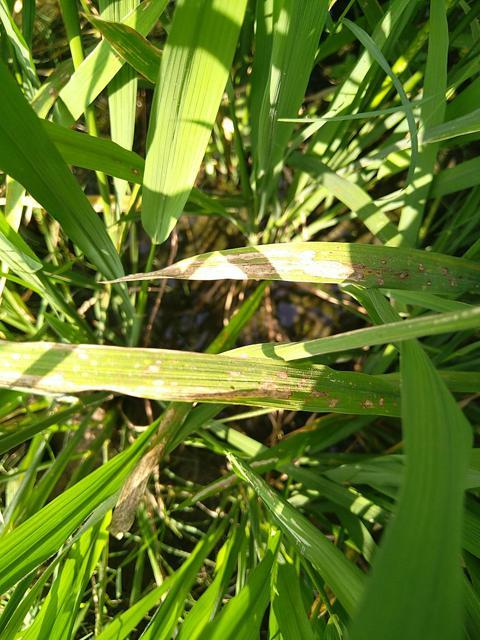Leaf Streak: (0, 340, 397, 417), (98, 242, 479, 296)
